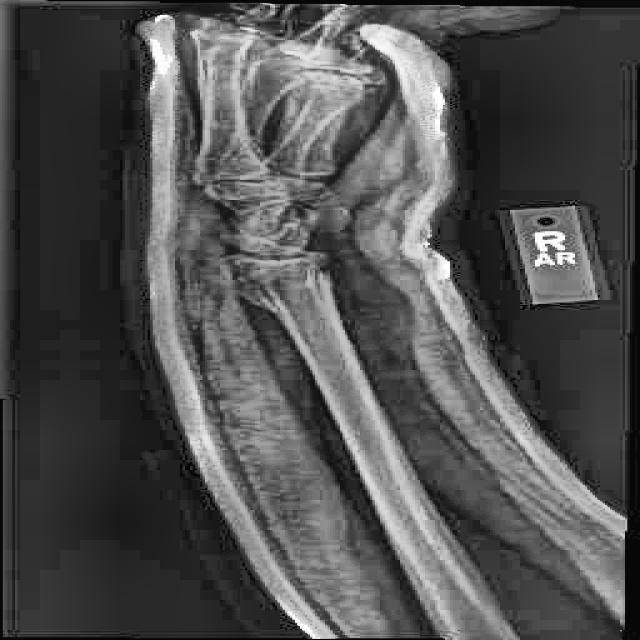fingers positive: (173, 239, 431, 318)
